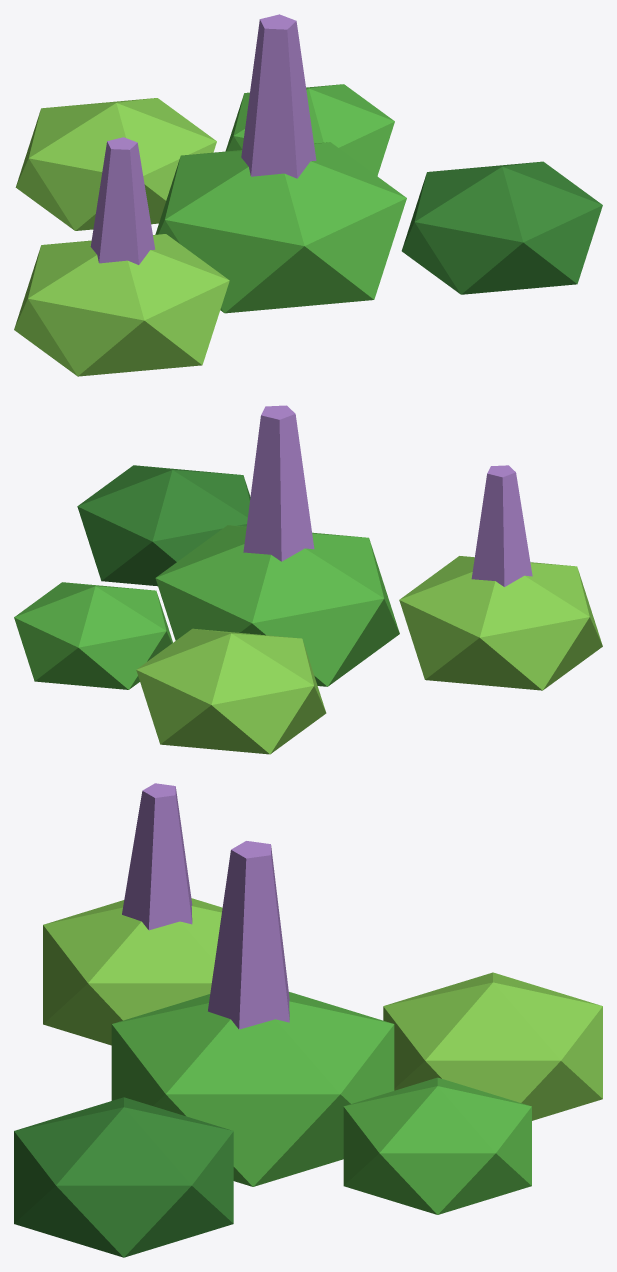
File: aguape.glb
The picture shows the model from 3 angles, top to bottom: view 1: azimuth 30°, elevation 25°; view 2: azimuth 150°, elevation 25°; view 3: azimuth 270°, elevation 25°; orthographic projection. The views are drawn at different scales.
Parts seen in each view (by area): view 1: corpo; view 2: corpo; view 3: corpo.
Boxes of the visible parts, bbox=[...] form: corpo: bbox=[14, 14, 602, 376]; corpo: bbox=[14, 405, 602, 754]; corpo: bbox=[14, 783, 602, 1257].
Size of the model in its own units: 0.3897 by 0.194 by 0.3191.
